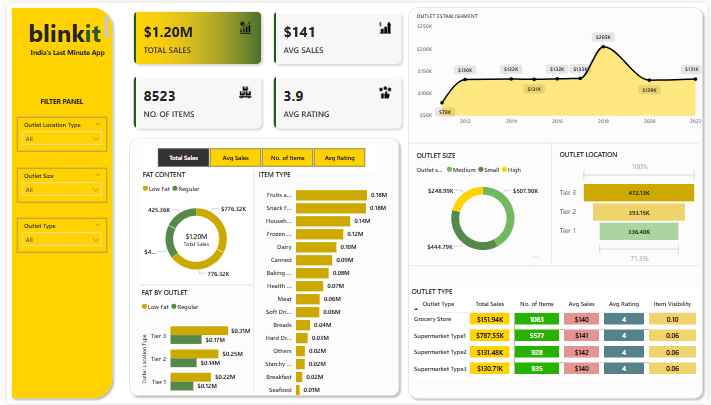

What the dashboard file says about the page in this screenshot:
{"tool":"powerbi","page":{"name":"Page 1","canvas":[1400,800],"ordinal":0},"visuals":[{"type":"shape","box":[0,0,220,800],"z":0},{"type":"textbox","box":[268.1,250,147.2,500],"z":1000},{"type":"textbox","box":[29.2,20.8,177.8,63.9],"z":2000},{"type":"textbox","box":[31.9,84.7,177.8,31.9],"z":3000},{"type":"cardVisual","fields":{"Data":["BlinkIT Grocery Data.Total Sales","BlinkIT Grocery Data.Avg Sales","BlinkIT Grocery Data.No. of Items","BlinkIT Grocery Data.Avg Rating"]},"box":[236.7,0,571.4,269.4],"z":4000},{"type":"shape","box":[236.7,261.2,557.1,532.7],"z":5000},{"type":"donutChart","title":"FAT CONTENT","fields":{"Y":["BlinkIT Grocery Data.Total Sales","Sum(BlinkIT Grocery Data.Sales)"],"Category":["BlinkIT Grocery Data.Item Fat Content"]},"box":[265.2,333.3,224.6,230.4],"z":6000},{"type":"slicer","fields":{"Values":["Metrics 2.Metrics"]},"box":[275,283.9,464.3,50],"z":7000},{"type":"cardVisual","fields":{"Data":["BlinkIT Grocery Data.Total Sales"]},"box":[319.6,439.3,117.9,60.7],"z":8000},{"type":"clusteredBarChart","title":"FAT BY OUTLET","fields":{"Y":["BlinkIT Grocery Data.Total Sales"],"Series":["BlinkIT Grocery Data.Item Fat Content"],"Category":["BlinkIT Grocery Data.Outlet Location Type"]},"box":[263.8,569.6,227.5,230.4],"z":9000},{"type":"shape","box":[928.9,408.9,244.4,148.9],"z":10000},{"type":"shape","box":[487.5,333.9,10.7,446.4],"z":11000},{"type":"barChart","title":"ITEM TYPE","fields":{"Y":["BlinkIT Grocery Data.Total Sales"],"Category":["BlinkIT Grocery Data.Item Type"]},"box":[498.2,333.9,267.9,466.1],"z":12000},{"type":"shape","box":[793.3,0,606.7,800],"z":13000},{"type":"lineChart","title":"OUTLET ESTABLISHMENT","fields":{"Y":["BlinkIT Grocery Data.Total Sales"],"Category":["BlinkIT Grocery Data.Outlet Establishment Year"]},"box":[813.3,17.8,580,235.6],"z":14000},{"type":"shape","box":[265.2,558,224.6,11.6],"z":15000},{"type":"shape","box":[1051.1,284.4,11.1,446.7],"z":16000},{"type":"shape","box":[804.4,268.9,580,24.4],"z":17000},{"type":"donutChart","title":"OUTLET SIZE","fields":{"Y":["BlinkIT Grocery Data.Total Sales"],"Category":["BlinkIT Grocery Data.Outlet Size"]},"box":[813.3,295.6,275.6,224.4],"z":18000},{"type":"shape","box":[1082.2,280,13.3,240],"z":19000},{"type":"funnel","title":" OUTLET LOCATION","fields":{"Y":["Sum(BlinkIT Grocery Data.Sales)"],"Category":["BlinkIT Grocery Data.Outlet Location Type"]},"box":[1100,293.3,284.4,231.1],"z":20000},{"type":"shape","box":[804.4,511.1,580,26.7],"z":21000},{"type":"pivotTable","title":"OUTLET TYPE","fields":{"Rows":["BlinkIT Grocery Data.Outlet Type"],"Values":["BlinkIT Grocery Data.Total Sales","BlinkIT Grocery Data.No. of Items","BlinkIT Grocery Data.Avg Sales","BlinkIT Grocery Data.Avg Rating","Avg(BlinkIT Grocery Data.Item Visibility)"]},"box":[804.4,568.9,580,182.2],"z":22000},{"type":"slicer","fields":{"Values":["BlinkIT Grocery Data.Outlet Location Type"]},"box":[20.4,228.6,179.6,69.4],"z":23000},{"type":"slicer","fields":{"Values":["BlinkIT Grocery Data.Outlet Size"]},"box":[20.4,330.6,179.6,69.4],"z":24000},{"type":"slicer","fields":{"Values":["BlinkIT Grocery Data.Outlet Type"]},"box":[20.4,430.6,179.6,69.4],"z":25000},{"type":"textbox","box":[20,181.7,178.3,31.7],"z":26000}]}

Visuals, with their boxes in screenshot pixels (x1, y1, x2, y2), scaled from the page's 1400x800 canvas onto the 711x405 screenshot:
shape: {"x1": 0, "y1": 0, "x2": 112, "y2": 404}
textbox: {"x1": 136, "y1": 127, "x2": 211, "y2": 380}
textbox: {"x1": 15, "y1": 11, "x2": 105, "y2": 43}
textbox: {"x1": 16, "y1": 43, "x2": 106, "y2": 59}
cardVisual - BlinkIT Grocery Data.Total Sales x BlinkIT Grocery Data.Avg Sales: {"x1": 120, "y1": 0, "x2": 410, "y2": 136}
shape: {"x1": 120, "y1": 132, "x2": 403, "y2": 402}
"FAT CONTENT" donutChart: {"x1": 135, "y1": 169, "x2": 249, "y2": 285}
slicer - Metrics 2.Metrics: {"x1": 140, "y1": 144, "x2": 375, "y2": 169}
cardVisual - BlinkIT Grocery Data.Total Sales: {"x1": 162, "y1": 222, "x2": 222, "y2": 253}
"FAT BY OUTLET" clusteredBarChart: {"x1": 134, "y1": 288, "x2": 250, "y2": 404}
shape: {"x1": 472, "y1": 207, "x2": 596, "y2": 282}
shape: {"x1": 248, "y1": 169, "x2": 253, "y2": 395}
"ITEM TYPE" barChart: {"x1": 253, "y1": 169, "x2": 389, "y2": 404}
shape: {"x1": 403, "y1": 0, "x2": 710, "y2": 404}
"OUTLET ESTABLISHMENT" lineChart: {"x1": 413, "y1": 9, "x2": 708, "y2": 128}
shape: {"x1": 135, "y1": 282, "x2": 249, "y2": 288}
shape: {"x1": 534, "y1": 144, "x2": 539, "y2": 370}
shape: {"x1": 409, "y1": 136, "x2": 703, "y2": 148}
"OUTLET SIZE" donutChart: {"x1": 413, "y1": 150, "x2": 553, "y2": 263}
shape: {"x1": 550, "y1": 142, "x2": 556, "y2": 263}
" OUTLET LOCATION" funnel: {"x1": 559, "y1": 148, "x2": 703, "y2": 265}
shape: {"x1": 409, "y1": 259, "x2": 703, "y2": 272}
"OUTLET TYPE" pivotTable: {"x1": 409, "y1": 288, "x2": 703, "y2": 380}
slicer - BlinkIT Grocery Data.Outlet Location Type: {"x1": 10, "y1": 116, "x2": 102, "y2": 151}
slicer - BlinkIT Grocery Data.Outlet Size: {"x1": 10, "y1": 167, "x2": 102, "y2": 202}
slicer - BlinkIT Grocery Data.Outlet Type: {"x1": 10, "y1": 218, "x2": 102, "y2": 253}
textbox: {"x1": 10, "y1": 92, "x2": 101, "y2": 108}
